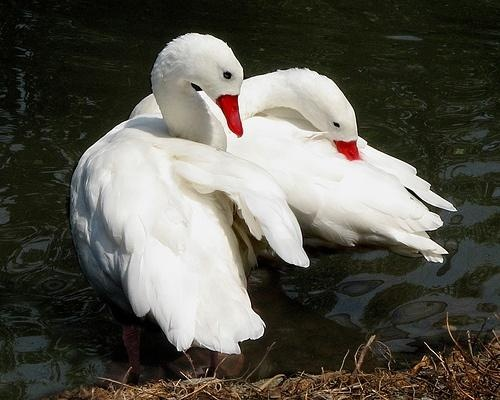bird: (70, 34, 312, 355), (130, 70, 458, 263)
